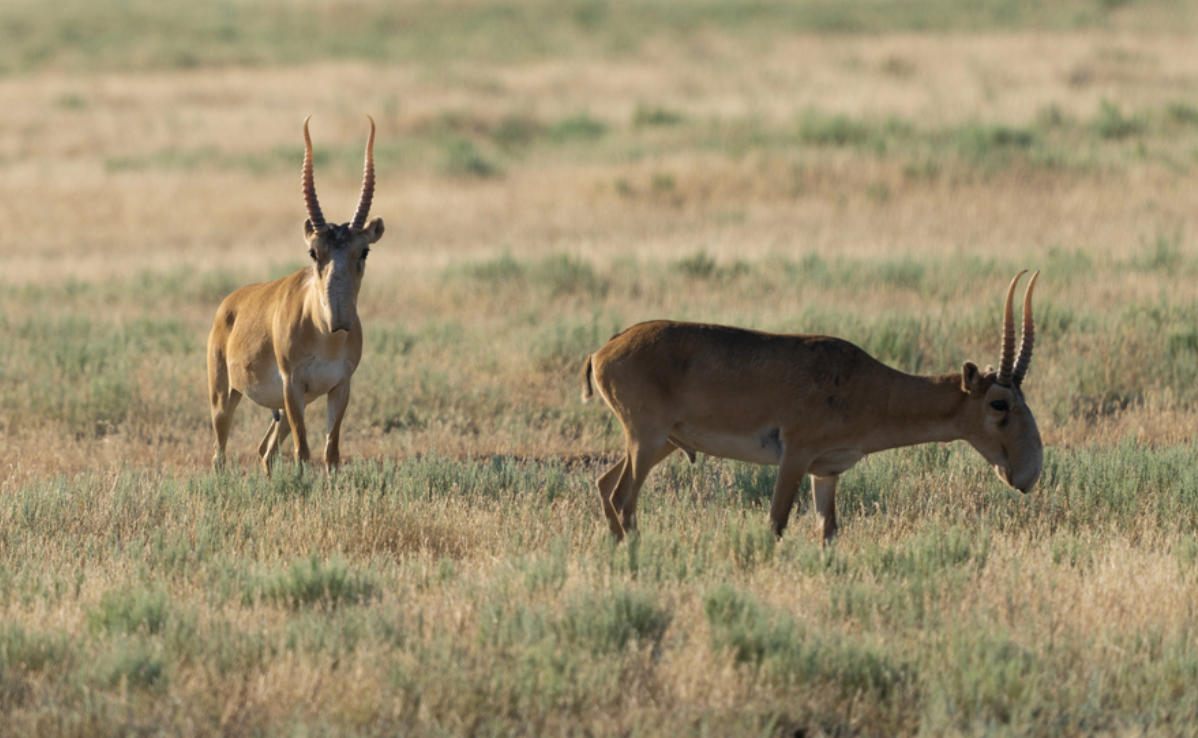saiga: (565, 255, 1065, 601), (216, 114, 381, 461)
